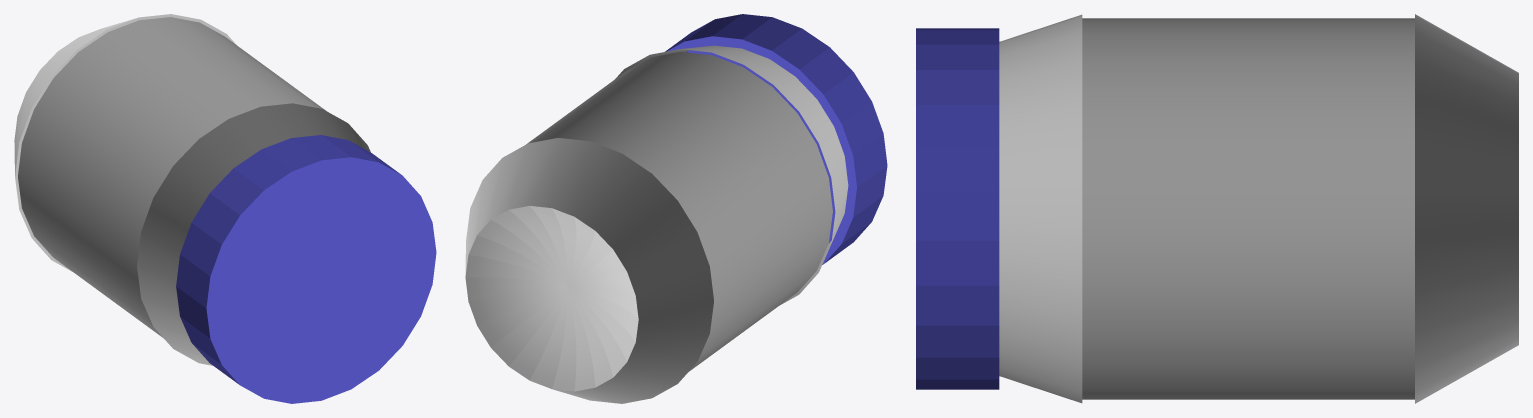
File: model_scale.obj
The picture shows the model from 3 angles, left to right: view 1: azimuth 30°, elevation 25°; view 2: azimuth 150°, elevation 25°; view 3: azimuth 270°, elevation 25°; orthographic projection. The views are drawn at different scales.
Parts seen in each view (by area): view 1: mesh6_mesh6-geometry, mesh4_mesh4-geometry, mesh5_mesh5-geometry, mesh1_mesh1-geometry; view 2: mesh1_mesh1-geometry, mesh4_mesh4-geometry, mesh6_mesh6-geometry, mesh5_mesh5-geometry; view 3: mesh4_mesh4-geometry, mesh1_mesh1-geometry, mesh5_mesh5-geometry, mesh6_mesh6-geometry.
Part boxes in pixels (x1=…): mesh6_mesh6-geometry: x1=176, y1=135, x2=436, y2=403; mesh4_mesh4-geometry: x1=18, y1=17, x2=325, y2=338; mesh5_mesh5-geometry: x1=137, y1=103, x2=370, y2=365; mesh1_mesh1-geometry: x1=14, y1=14, x2=236, y2=272; mesh1_mesh1-geometry: x1=465, y1=138, x2=713, y2=403; mesh4_mesh4-geometry: x1=526, y1=52, x2=832, y2=371; mesh6_mesh6-geometry: x1=665, y1=14, x2=887, y2=264; mesh5_mesh5-geometry: x1=615, y1=45, x2=848, y2=305; mesh4_mesh4-geometry: x1=1082, y1=18, x2=1414, y2=399; mesh1_mesh1-geometry: x1=1415, y1=14, x2=1518, y2=403; mesh5_mesh5-geometry: x1=999, y1=14, x2=1082, y2=403; mesh6_mesh6-geometry: x1=916, y1=28, x2=999, y2=389.
Size of the model in its own units: 0.0702 by 0.0701 by 0.108.
